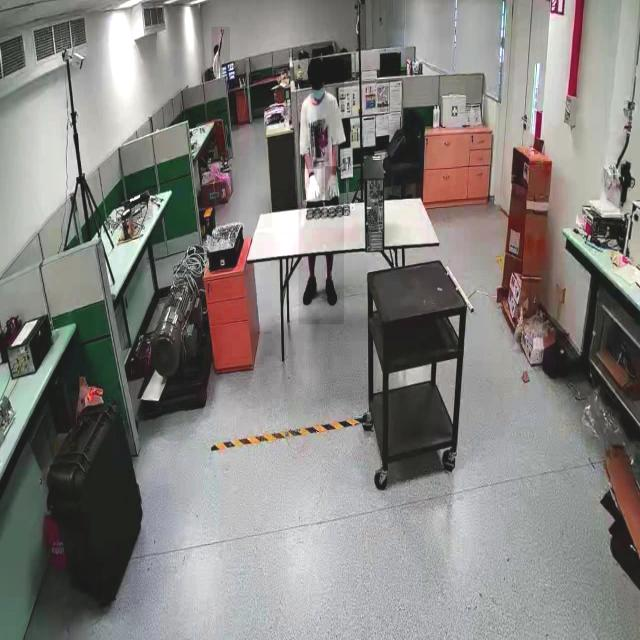face_mask: (311, 70, 327, 100)
hand_glove: (302, 169, 322, 205), (325, 166, 338, 204)
hand_noglove: (218, 28, 224, 42)
head_nohelmet: (308, 57, 326, 74), (214, 44, 220, 50)
person: (298, 59, 344, 325), (211, 26, 230, 74)
shoes: (300, 271, 319, 307), (323, 272, 340, 308)
